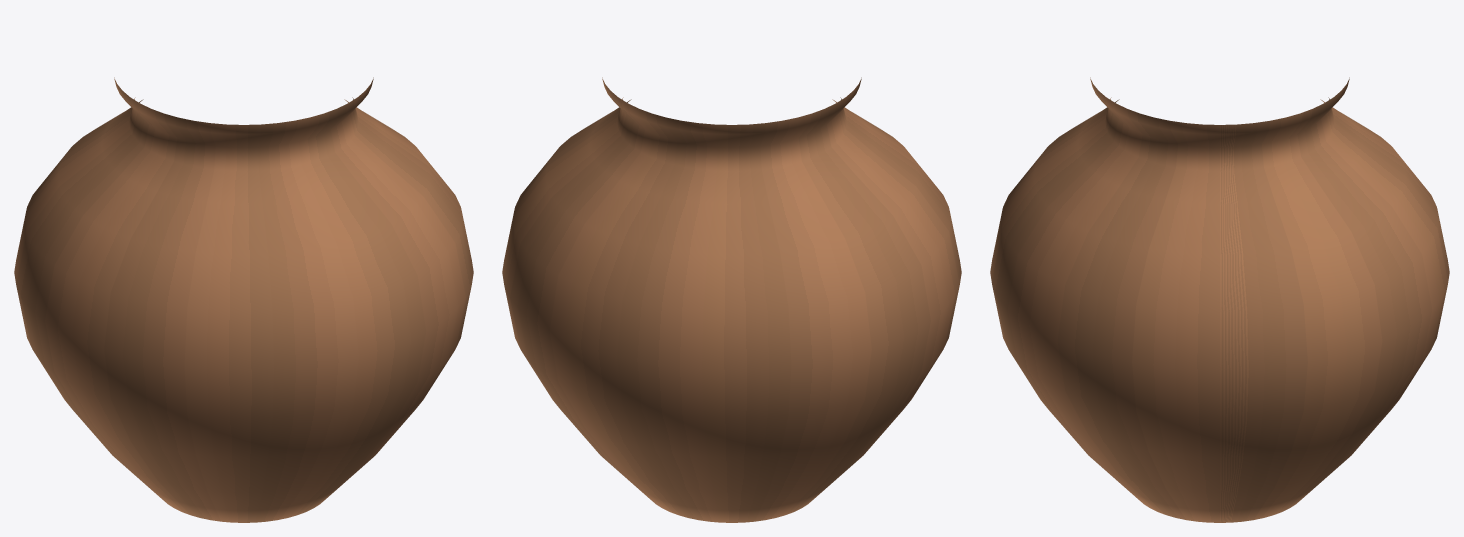
Rendered from taoguan.glb.
3 renders of one model, left to right at view 1: azimuth 30°, elevation 25°; view 2: azimuth 150°, elevation 25°; view 3: azimuth 270°, elevation 25°, orthographic.
Visible parts, largest first — view 1: taoguan; view 2: taoguan; view 3: taoguan.
Part boxes in pixels (x1,y1,x2,y2): taoguan: [14, 77, 473, 522]; taoguan: [502, 77, 961, 522]; taoguan: [990, 77, 1449, 522].
Bounding box in the file's own units: 1 × 1 × 1.
1 material, 1 textured.
